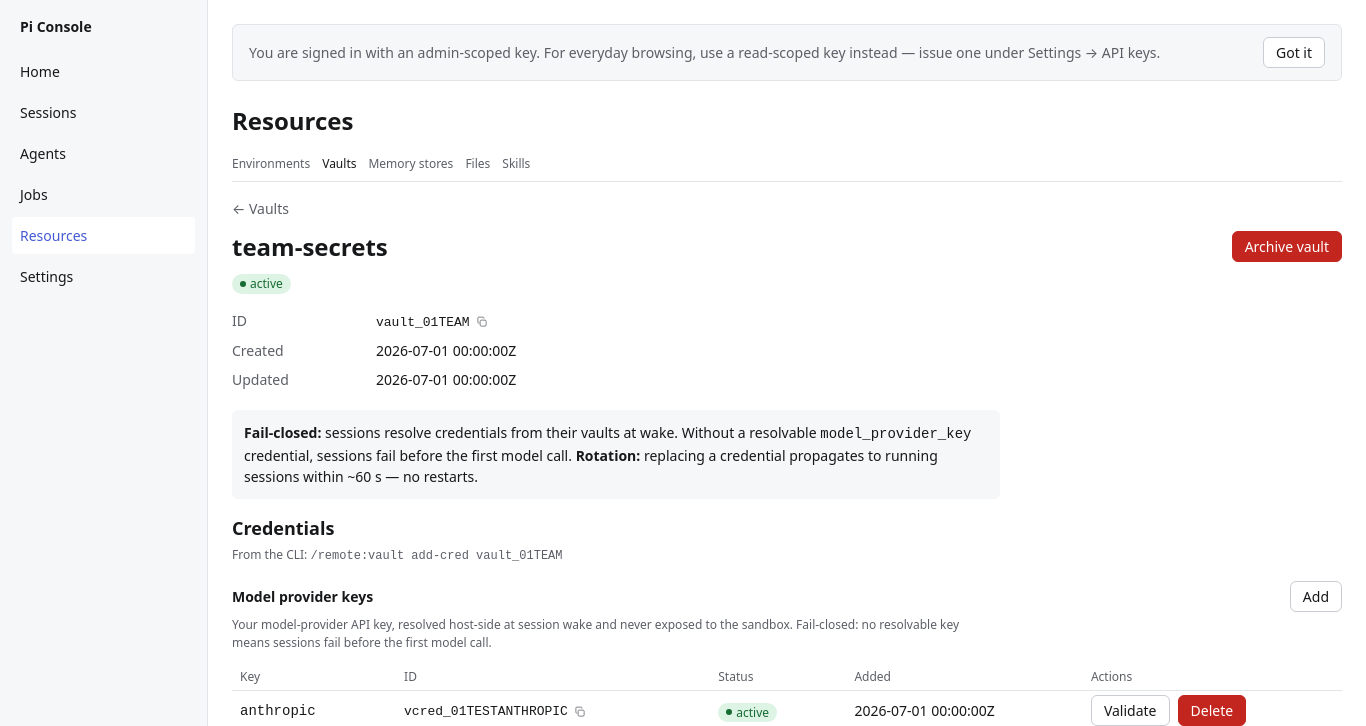
Test: vault detail (§9.3, W11) › archives the vault behind a typed confirmation naming the cascade (DP-7)
Step 1. Click the button "Archive vault" → click(1287, 247), box [1232,231,1342,262]
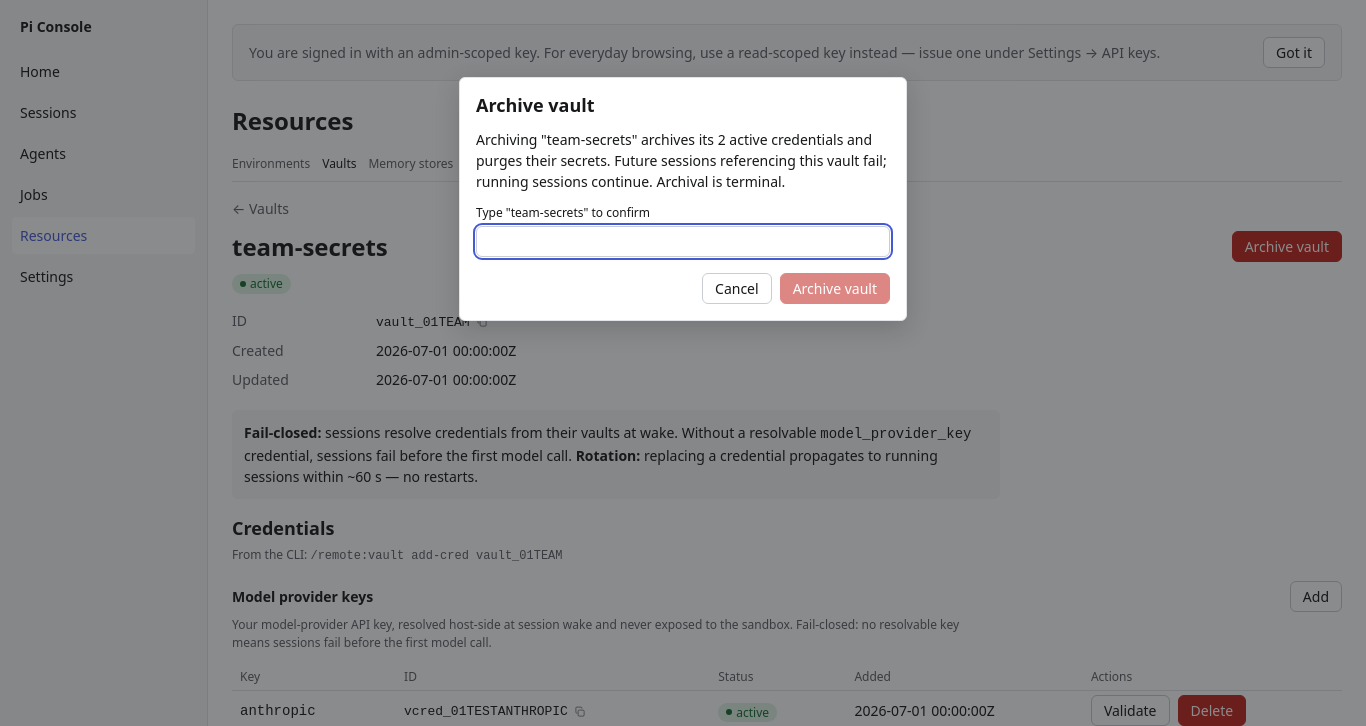
Now the dialog "Archive vault" shows "archives its 2 active credentials and purges their secrets", box [476,130,887,191]
Now the dialog "Archive vault" shows "Archival is terminal.", box [476,130,887,191]
Step 2. Type "team-secrets" into the field labelled "Type \"team-secrets\" to confirm" → (683, 242), box [476,226,890,257]
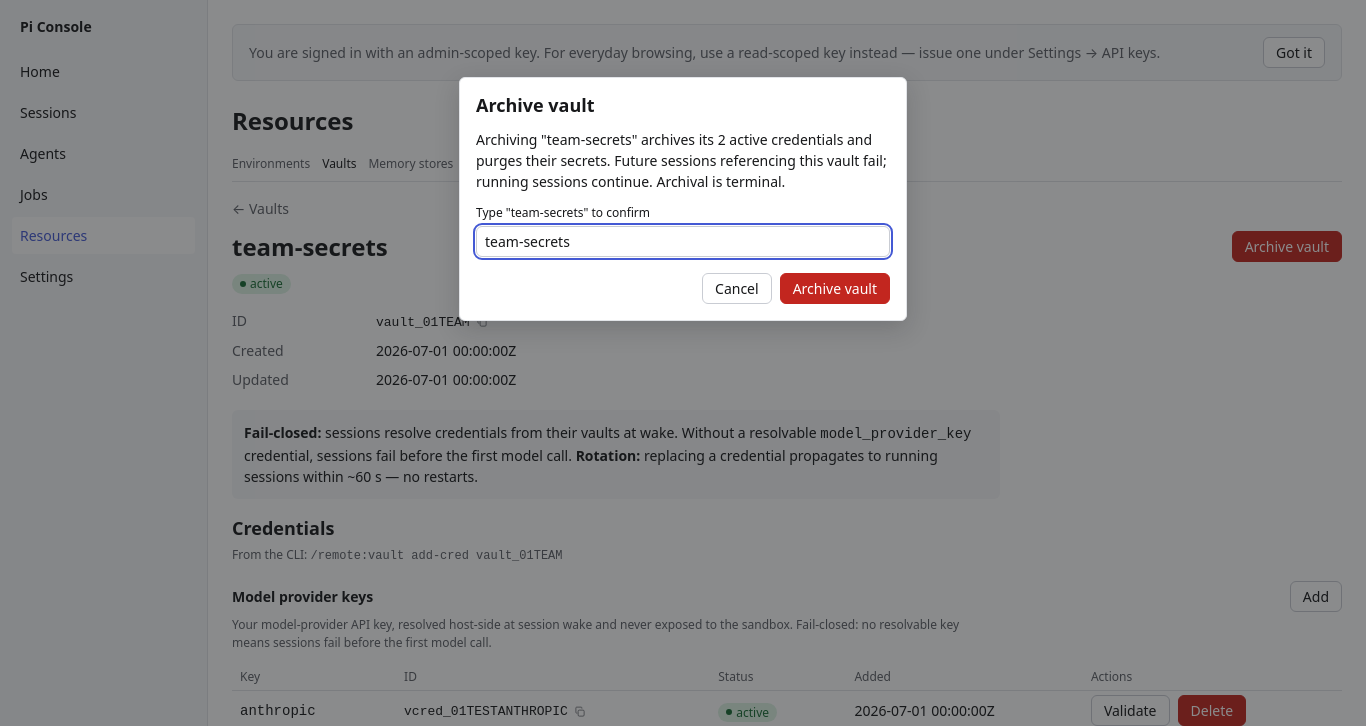
Step 3. Click the button "Archive vault" → click(835, 289), box [780,273,890,304]
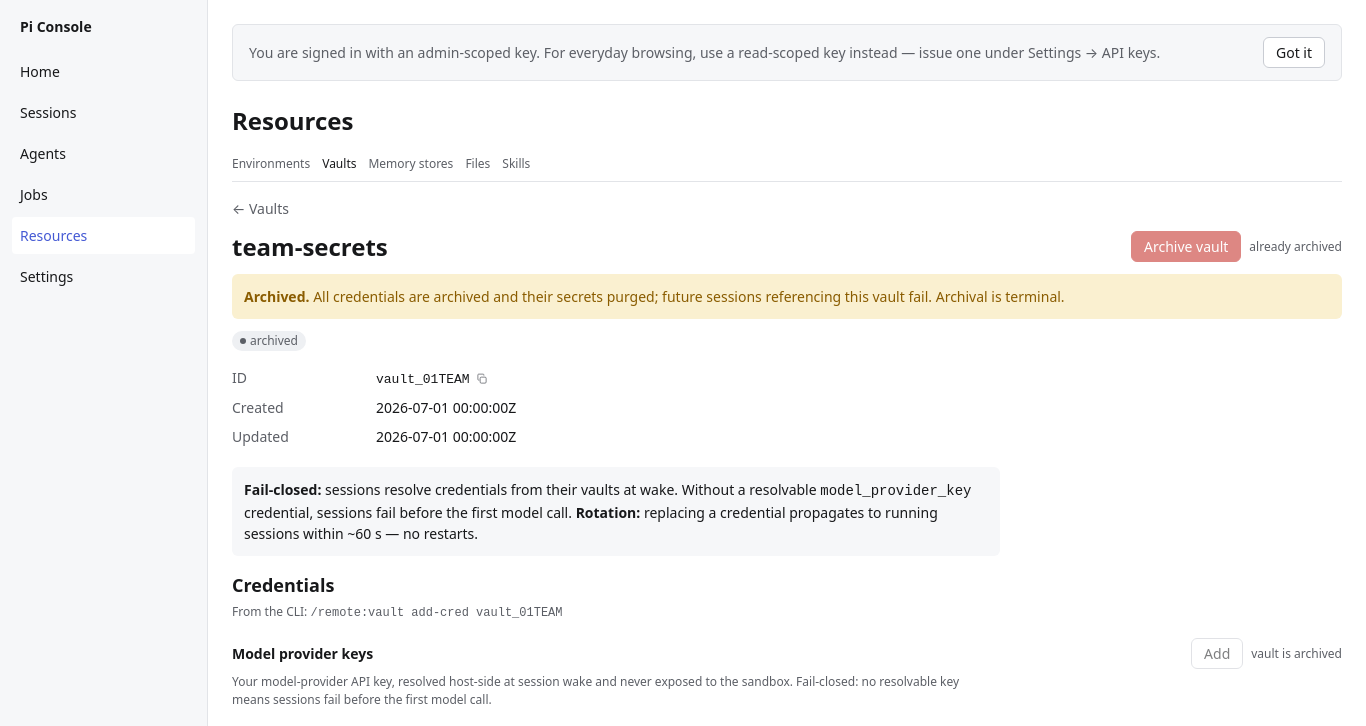
Now the message shows "Archived.", box [244,287,310,306]
